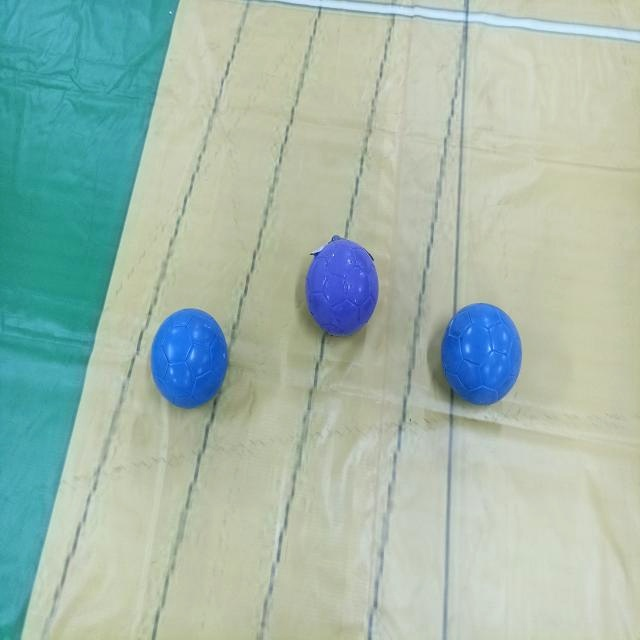blue_ball: (432, 299, 524, 408), (140, 310, 233, 406)
purple_ball: (295, 233, 385, 340)
